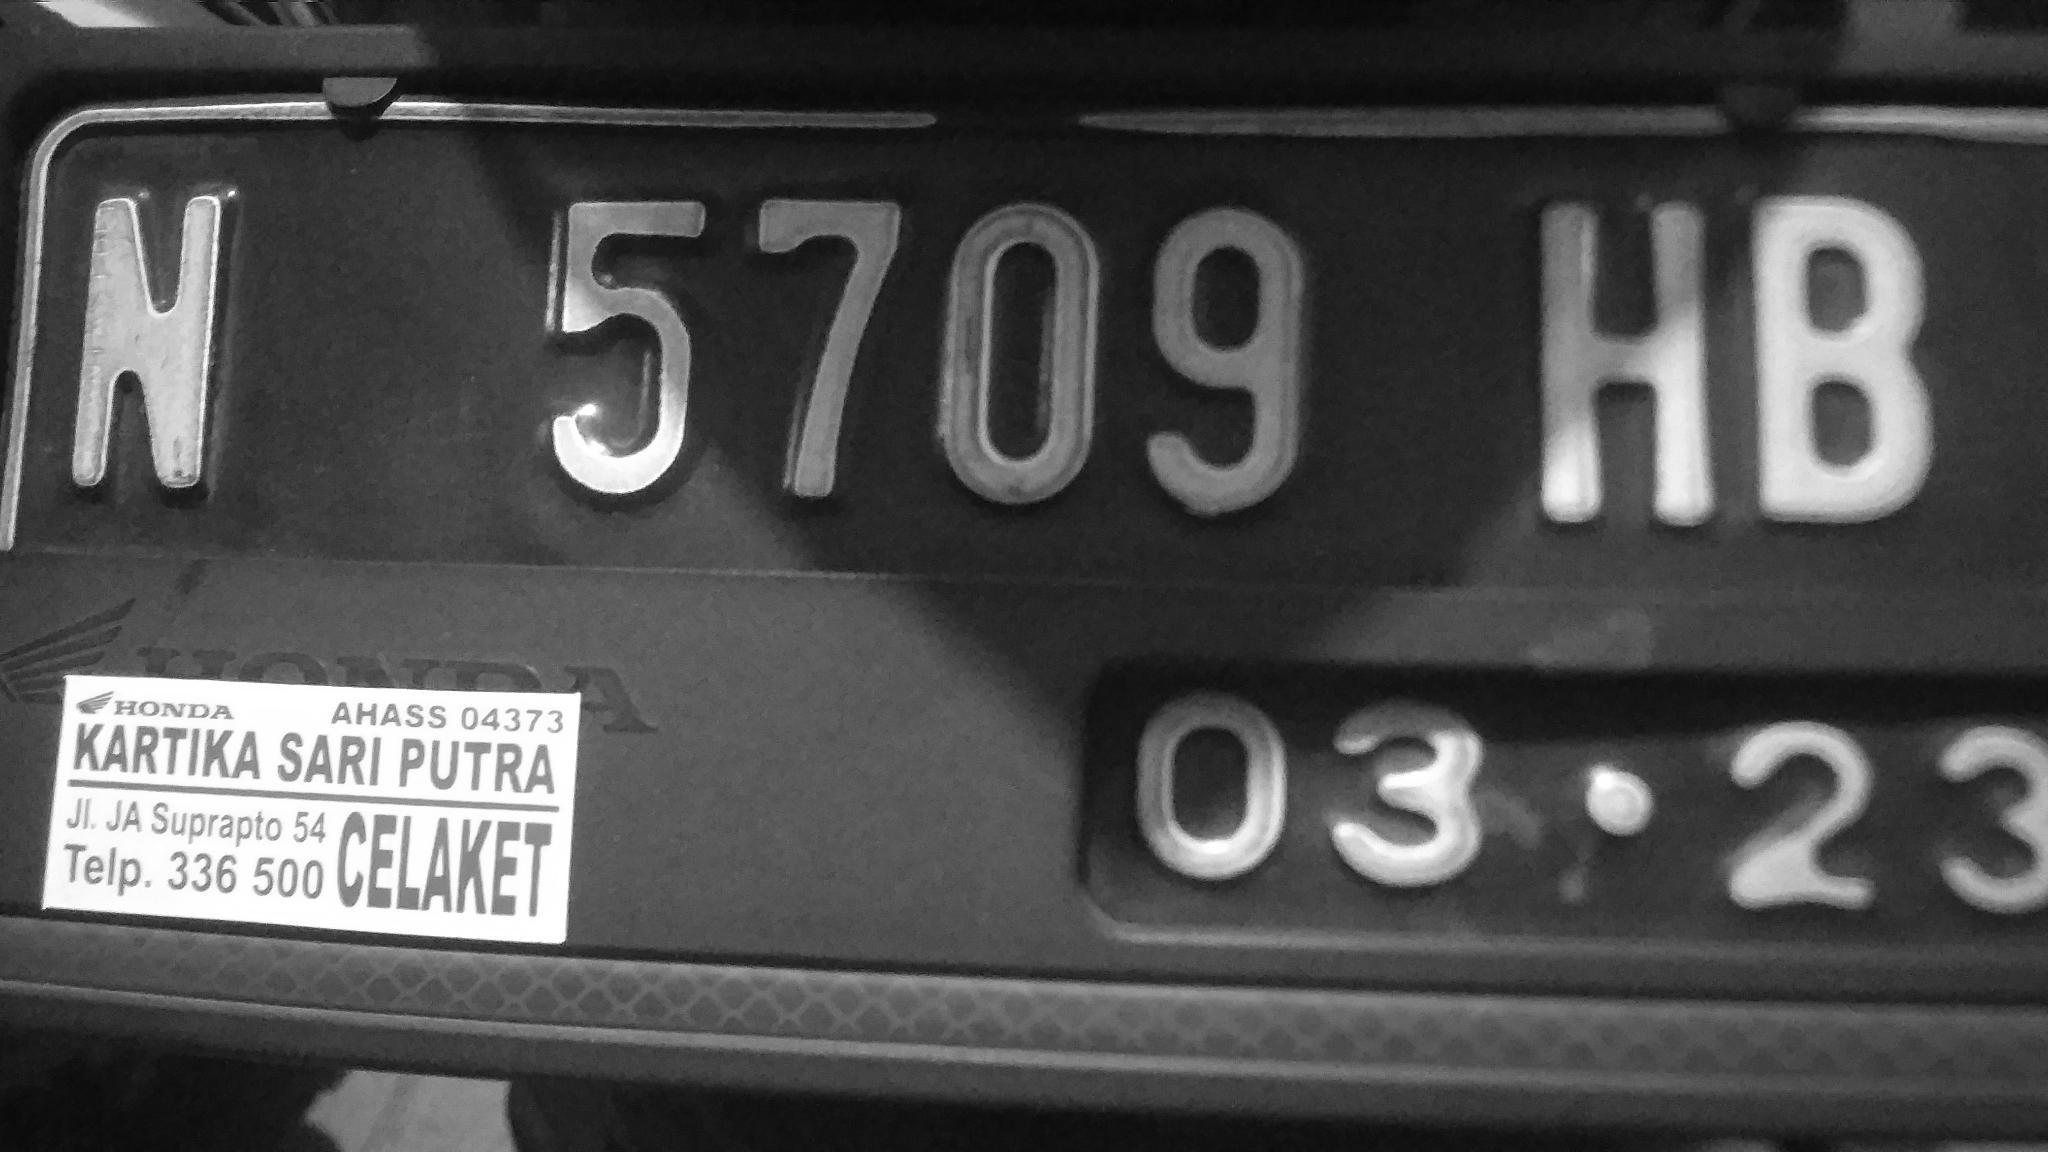0: (931, 134, 1129, 540)
5: (518, 153, 740, 511)
7: (740, 135, 933, 508)
9: (1128, 160, 1348, 537)
B: (1729, 152, 1957, 547)
H: (1522, 163, 1733, 550)
N: (65, 143, 243, 532)
